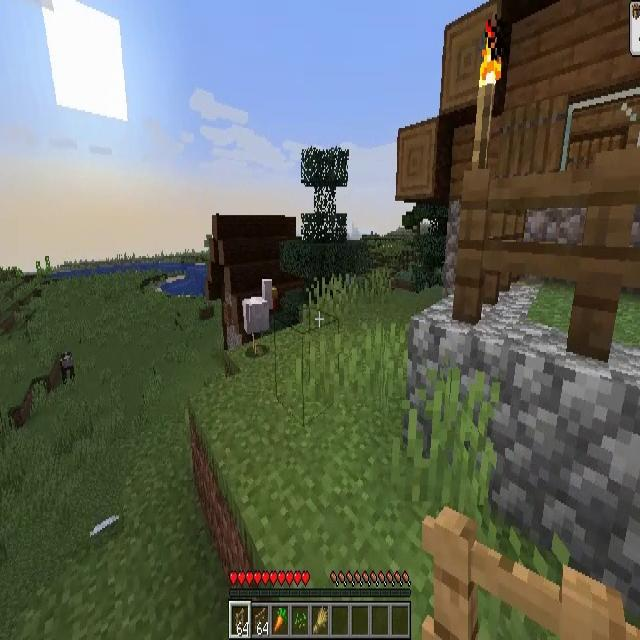cow: (61, 354, 74, 386)
duck: (239, 278, 276, 350)
